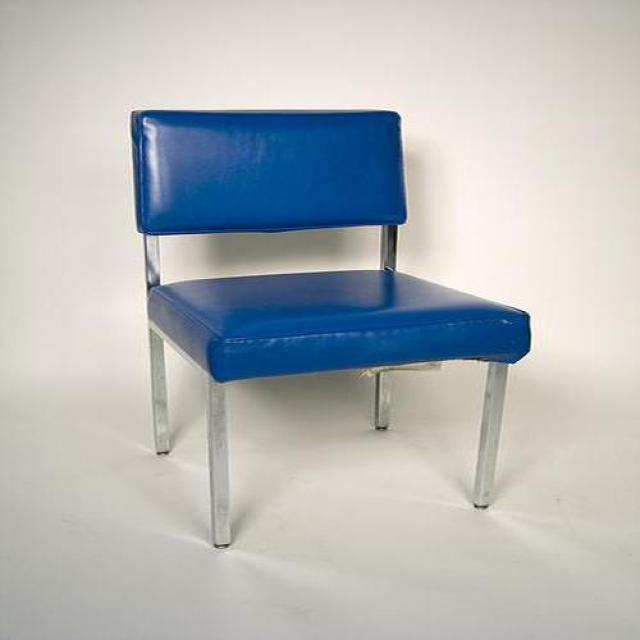chair: (129, 110, 531, 552)
